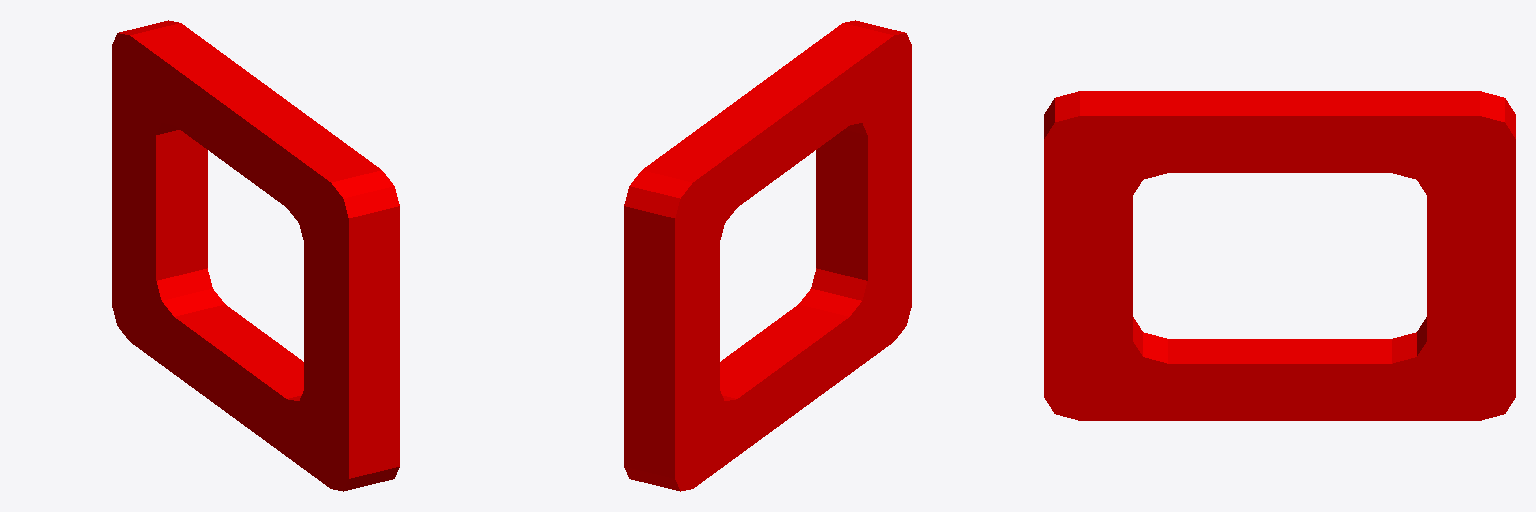
The robot description file, URDF, robot "gate-50-curved":
<?xml version="1.0" ?>

<robot name="gate-50-curved">

  <link concave="yes" name="base_link"> 

    <inertial>
      <origin rpy="0 0 0" xyz="0 0 0"/>
      <mass value="0.0"/>
      <inertia ixx="100" ixy="100.0" ixz="100.0" iyy="100" iyz="100.0" izz="100"/>
    </inertial>

    <visual>
      <origin rpy="0 0 0" xyz="0 0 0"/>
      <geometry>
        <!-- <box size=".5 .5 1.5" /> -->
        <mesh filename="./Gate_50_curved.obj" scale="1.4 1.4 1.0"/>
      </geometry> 
      <material name="red">
        <color rgba="1. 0. 0. 0.9"/>
      </material> 
    </visual>

    <collision concave="yes">
      <origin rpy="0 0 0" xyz="0 0 0"/>
      <geometry>
        <mesh filename="./Gate_50_curved.obj" scale="1.4 1.4 1.0"/>
      </geometry>
    </collision>  

  </link>

</robot>

--- Facts derived from the render (not from the file) ---
Views: 3 orthographic renders of the robot side by side, from view 1: azimuth 30°, elevation 25°; view 2: azimuth 150°, elevation 25°; view 3: azimuth 270°, elevation 25°.
Robot: gate-50-curved — 1 links, 0 joints (none); root link base_link; default pose: every joint at zero.
Visible links, largest first — view 1: base_link; view 2: base_link; view 3: base_link.
Boxes of the visible links, box(x1,y1,x2,y2) form: base_link: box(112, 20, 399, 491); base_link: box(624, 20, 911, 491); base_link: box(1044, 91, 1515, 420).
Bounding box of the posed robot: 0.14 × 1.12 × 0.8 m (x, y, z).
1 mesh visuals loaded from 1 distinct referenced files (1 OBJ).